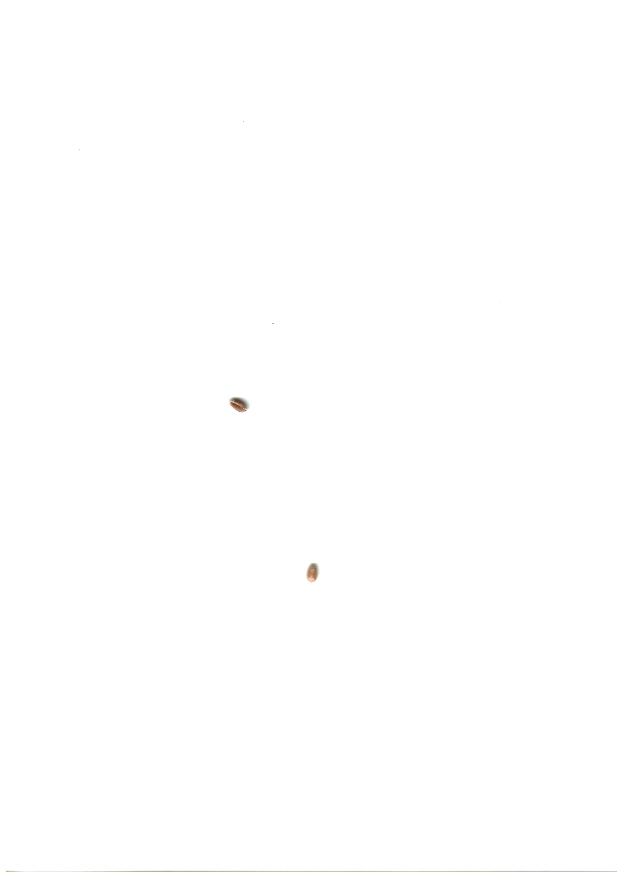grains: (222, 389, 256, 420), (296, 559, 327, 590)
